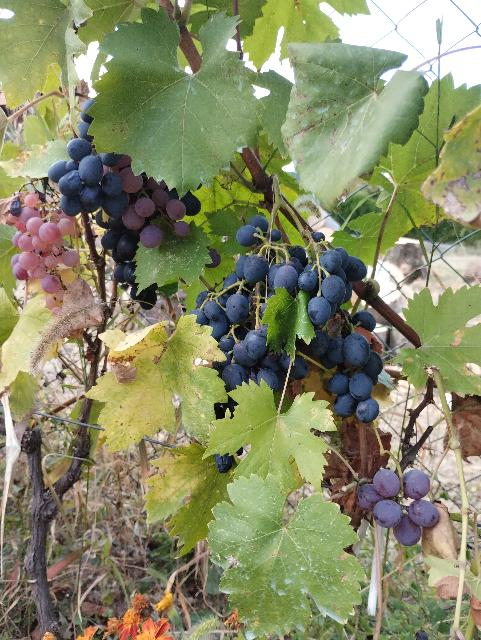grapes: (190, 215, 384, 422), (356, 469, 440, 546)
